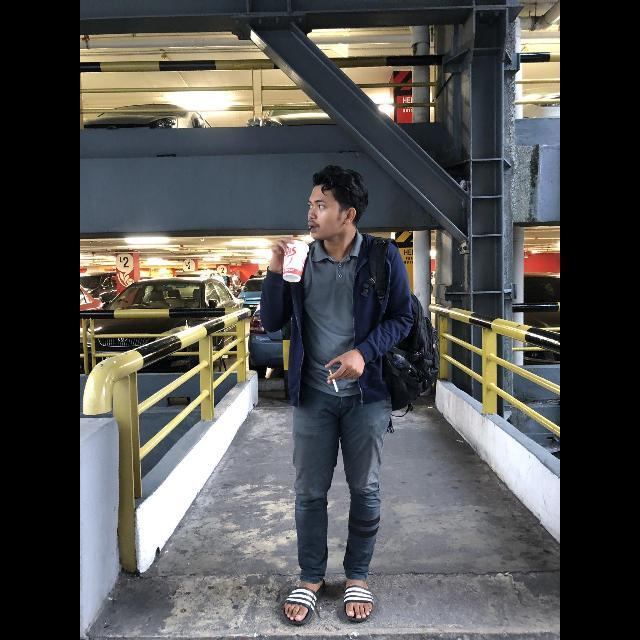rokok: (324, 362, 344, 394)
